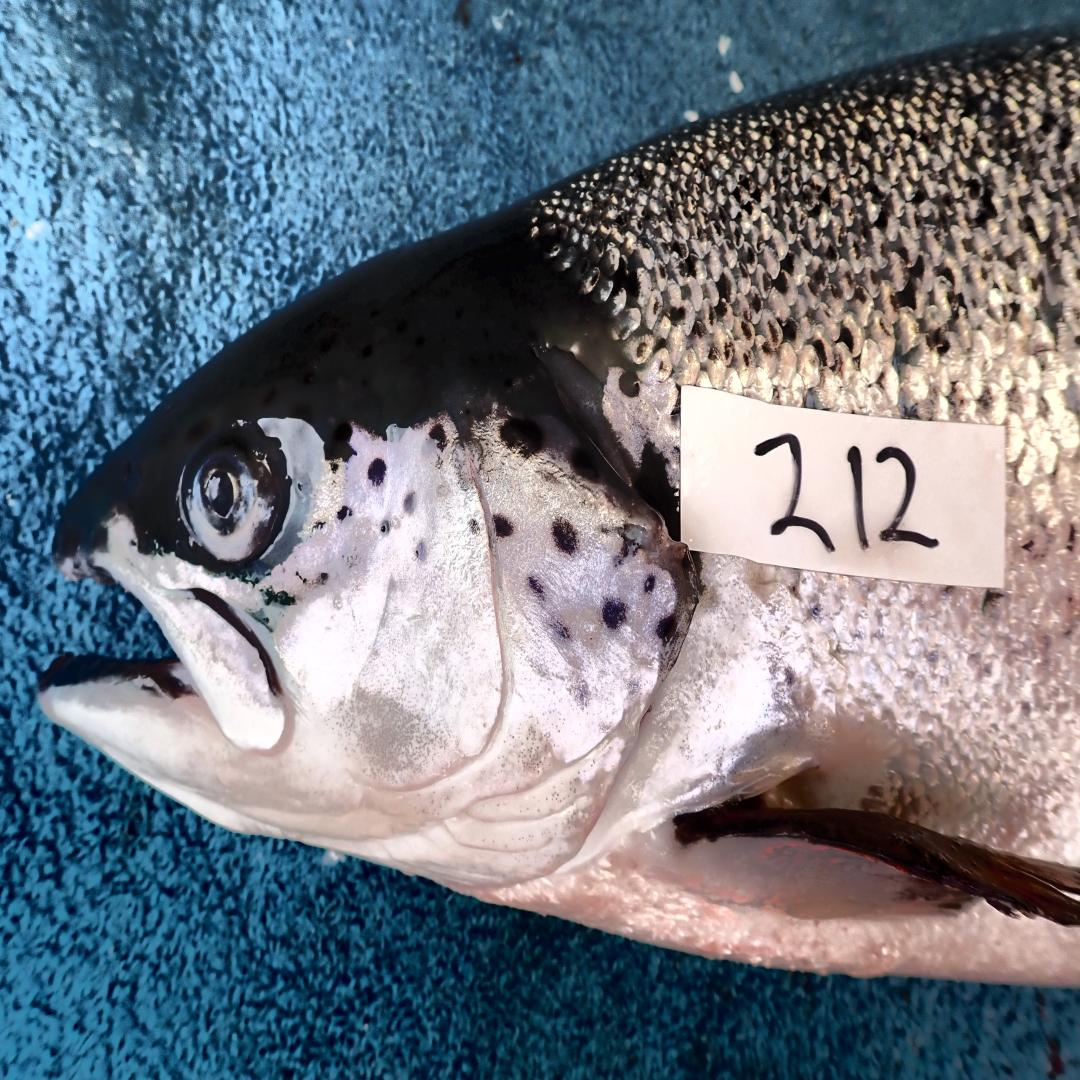spot: (603, 523, 648, 562), (502, 418, 544, 456), (570, 450, 598, 486), (421, 421, 448, 457), (553, 518, 578, 554), (601, 599, 626, 630), (655, 614, 678, 647), (367, 458, 386, 487), (494, 515, 513, 537), (529, 576, 544, 603), (554, 622, 572, 639), (403, 492, 416, 515), (467, 518, 481, 535), (646, 572, 657, 593), (378, 520, 391, 536), (338, 506, 352, 520), (416, 543, 426, 562), (318, 572, 328, 584)
